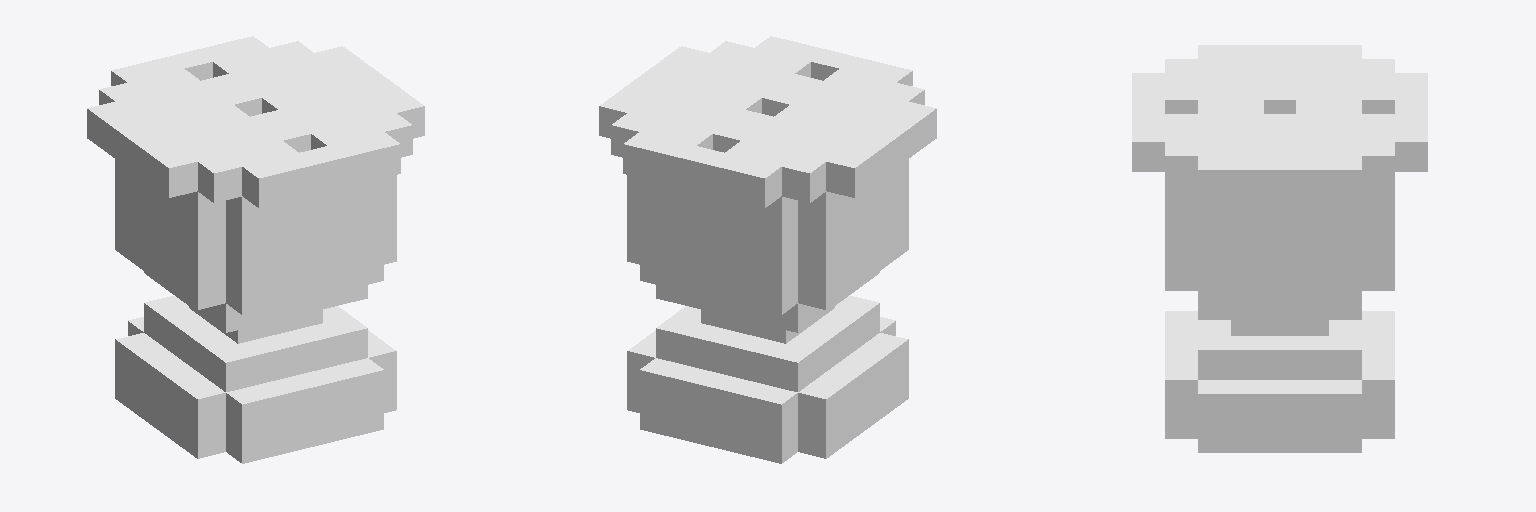
Rendered from Extra-8-DualStriker_CanonShaft_R.obj.
The picture shows the model from 3 angles: view 1: azimuth 30°, elevation 25°; view 2: azimuth 150°, elevation 25°; view 3: azimuth 270°, elevation 25°; orthographic projection.
Parts seen in each view (by area): view 1: DualStriker_CanonShaft_R; view 2: DualStriker_CanonShaft_R; view 3: DualStriker_CanonShaft_R.
Boxes of the visible parts, box(x1,y1,x2,y2) form: DualStriker_CanonShaft_R: box(87, 36, 424, 463); DualStriker_CanonShaft_R: box(599, 36, 936, 463); DualStriker_CanonShaft_R: box(1132, 45, 1427, 452).
Bounding box in the file's own units: 0.9 × 1 × 0.9.